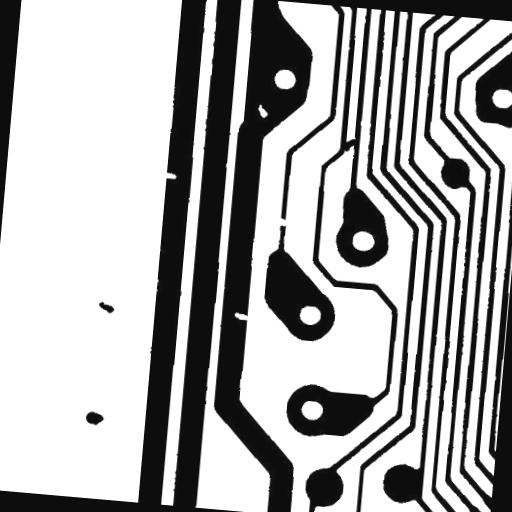copper: (77, 402, 112, 434), (90, 293, 122, 321)
mousebite: (226, 304, 256, 328), (155, 164, 184, 186)
open: (266, 209, 295, 234)
pin-hole: (249, 96, 276, 126)
short: (332, 129, 366, 160)
